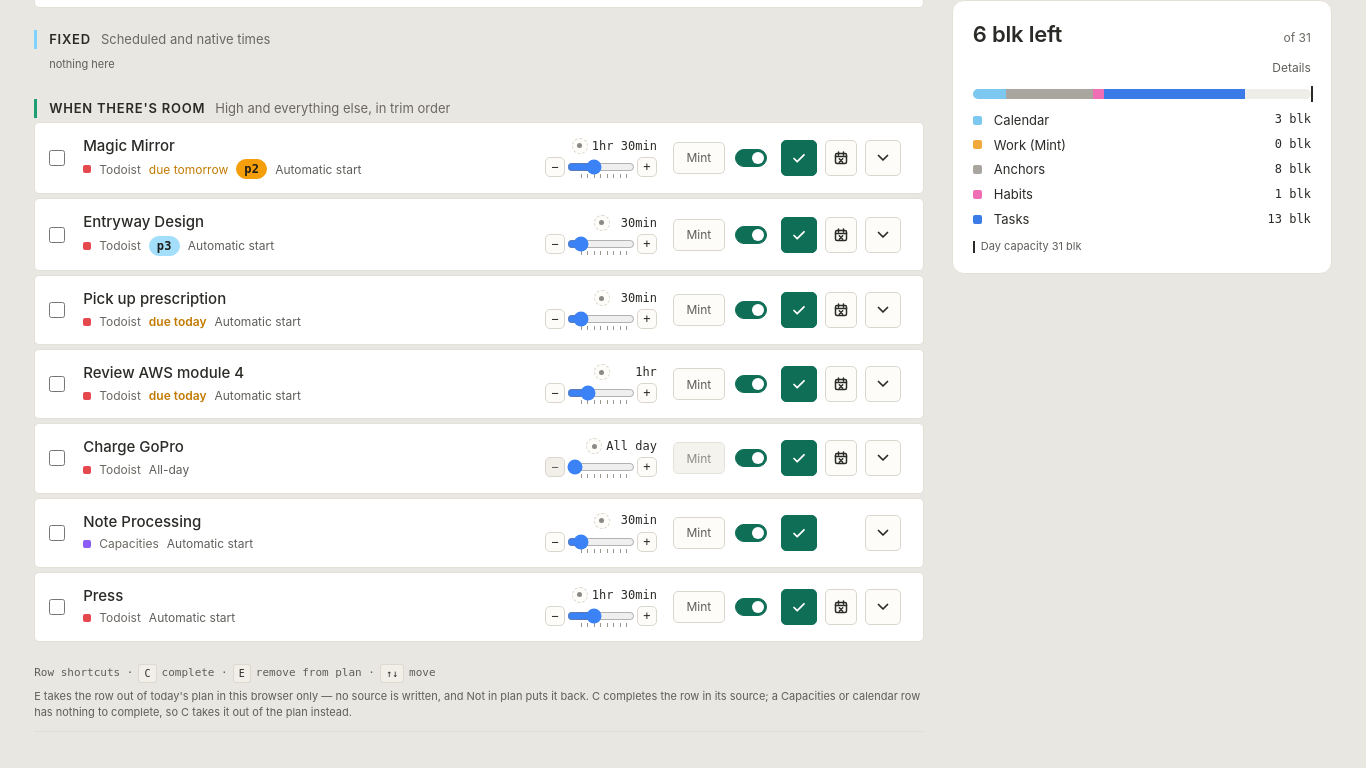
Test: F7 integration: selection and the batch bar › shows the batch bar only once a row is selected, and selection stays local
(page scrolled)
Click the 7th checkbox with class "trow__check". click: (57, 607)
box: [49, 599, 65, 615]
(page scrolled)
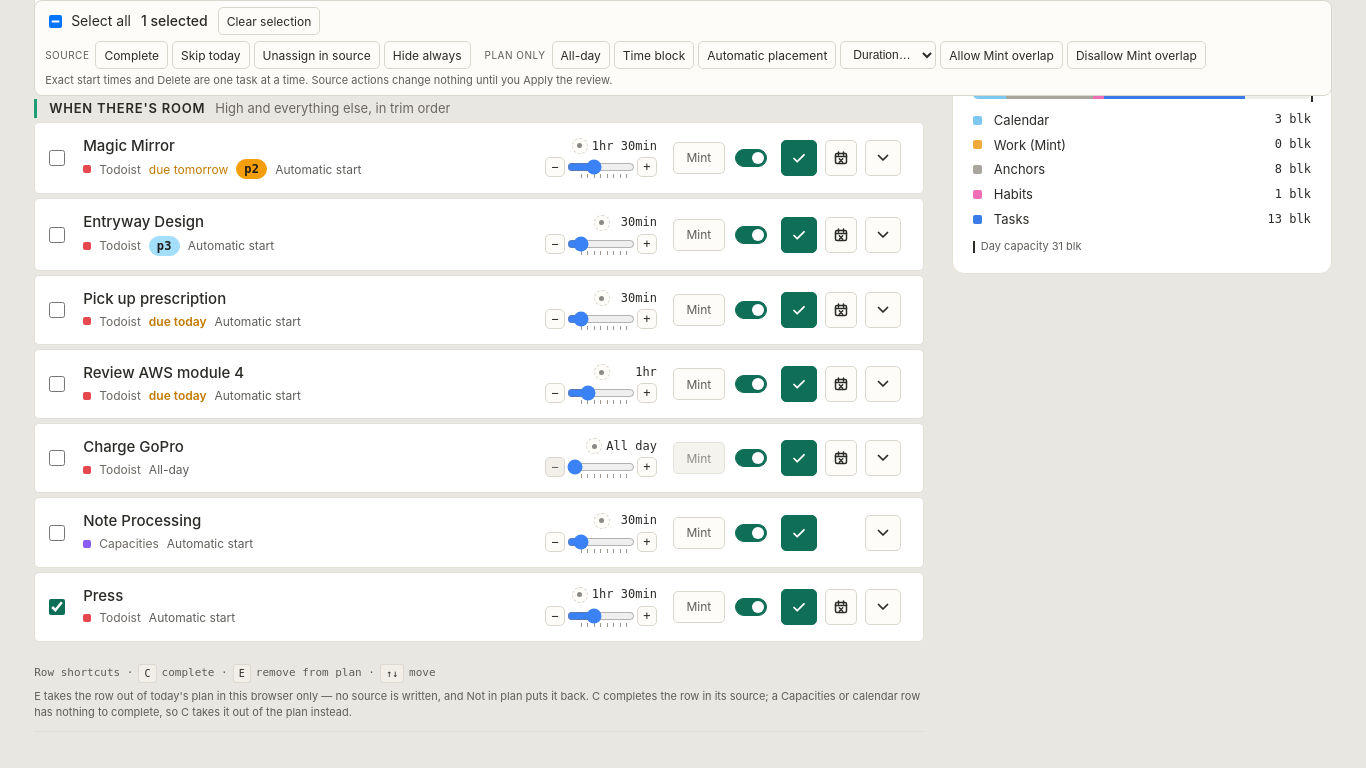
expect the element with test id "batch-bar" is shown: met, box [34, 0, 1332, 96]
expect the text with test id "batch-count" reads "1 selected": met, box [141, 11, 208, 31]
// Clearing the selection takes the bar away again.
Click the button "Clear selection". click: (269, 21)
box: [218, 7, 320, 35]
(page scrolled)
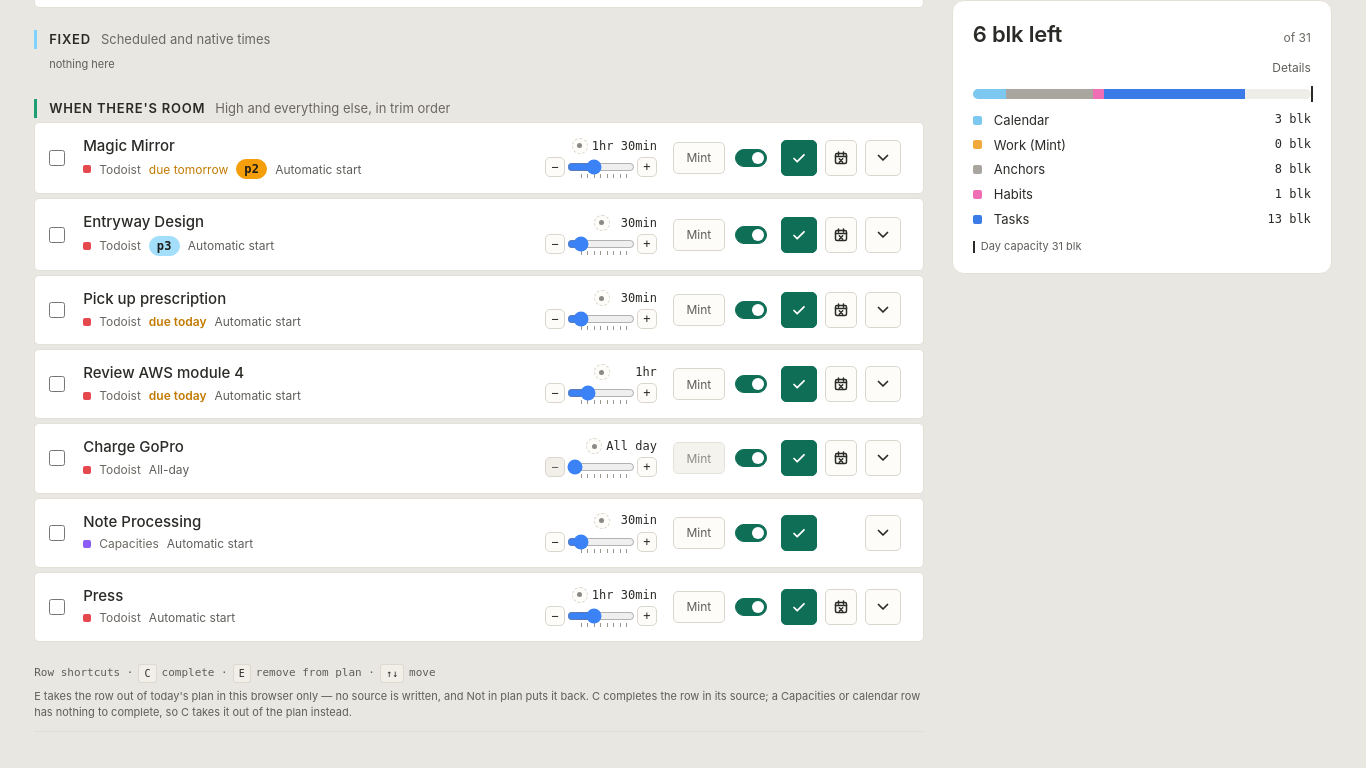
expect the element with test id "batch-bar" is gone: met
